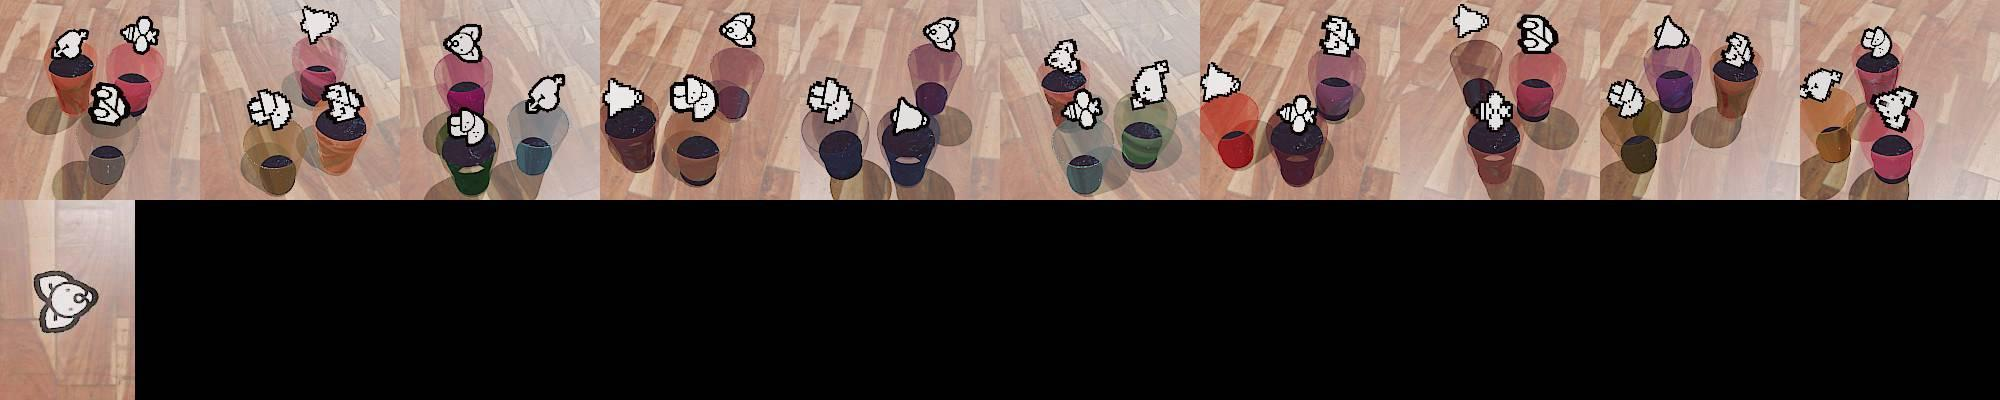icon: (32, 269, 98, 335), (806, 74, 853, 124), (1871, 85, 1921, 131), (89, 79, 136, 125), (247, 87, 295, 129), (1129, 59, 1170, 107), (602, 75, 647, 118), (321, 80, 366, 124), (1514, 13, 1559, 55), (1318, 14, 1360, 57), (1471, 89, 1515, 130), (677, 75, 717, 121), (1277, 92, 1319, 134), (297, 4, 339, 45), (526, 73, 566, 115), (1606, 78, 1647, 118), (1797, 66, 1843, 102), (443, 23, 483, 62), (889, 94, 930, 134), (120, 15, 161, 55), (1651, 14, 1691, 52), (448, 107, 489, 145), (1065, 89, 1103, 129), (1202, 61, 1239, 101), (51, 27, 92, 62), (718, 13, 756, 50), (1718, 31, 1755, 68), (922, 15, 959, 51), (1453, 3, 1489, 38), (1860, 25, 1894, 60), (1043, 42, 1080, 74)
